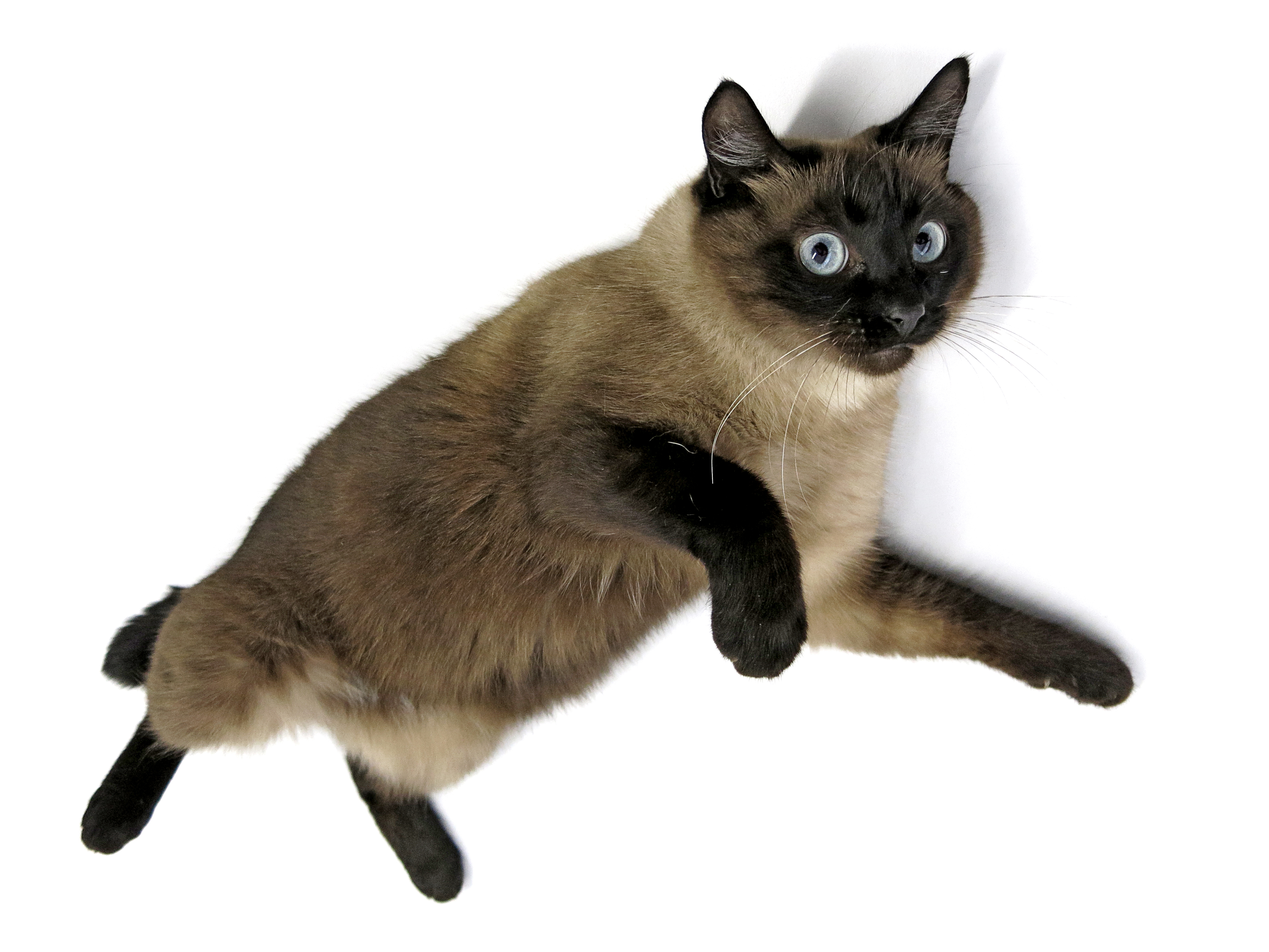cat: (73, 56, 1136, 898)
